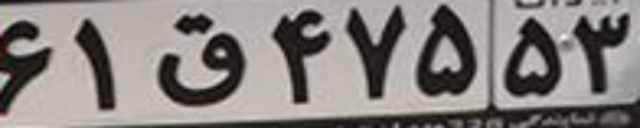1: (71, 17, 119, 111)
3: (573, 12, 629, 94)
4: (269, 7, 332, 105)
5: (415, 3, 478, 97), (502, 15, 561, 96)
6: (0, 16, 52, 117)
7: (343, 3, 406, 101)
ghaf: (155, 11, 246, 106)
